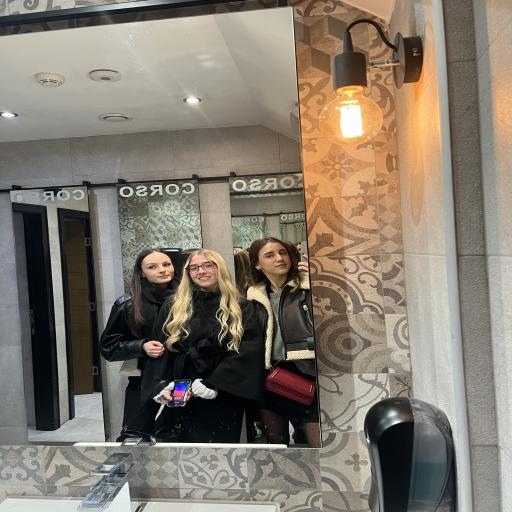marija: (136, 253, 175, 286)
masa: (254, 243, 290, 276)
